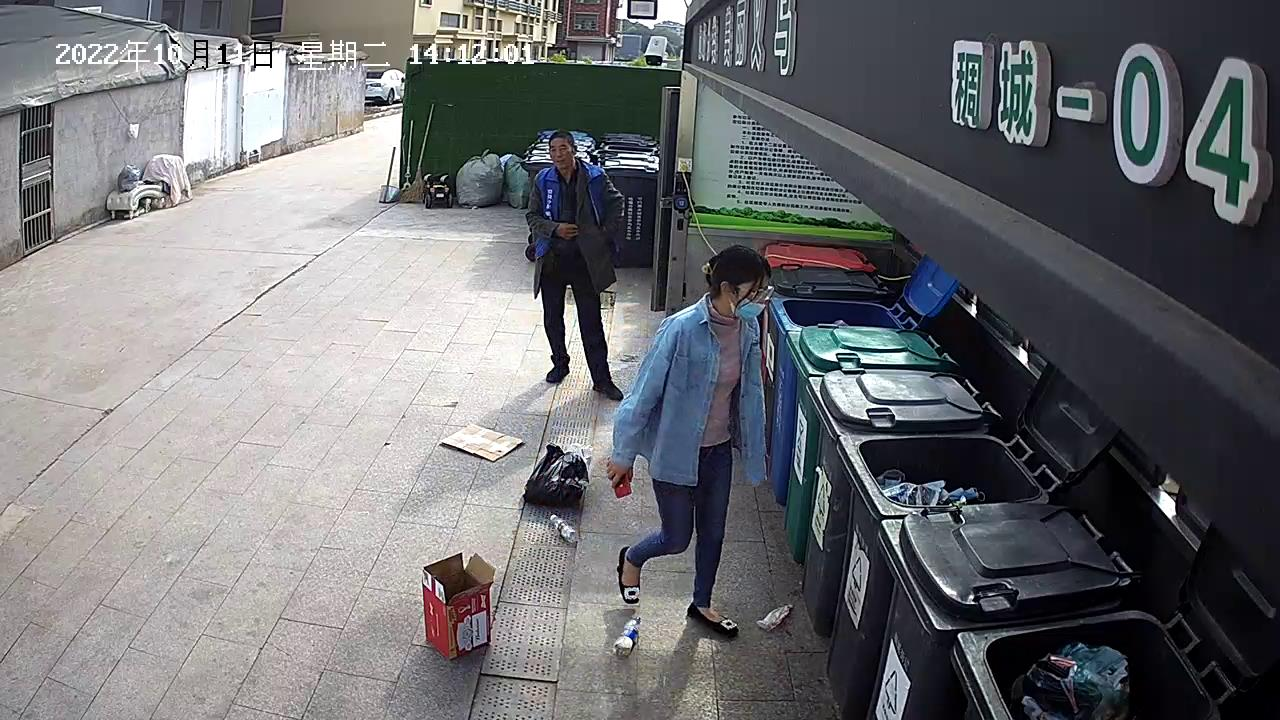garbage-bag: (521, 440, 594, 511)
suliaozhipin: (611, 614, 642, 660), (754, 601, 796, 633), (546, 510, 581, 545)
worker: (604, 244, 774, 641), (522, 127, 627, 402)
zhizhipin: (419, 549, 498, 662), (438, 420, 526, 464)
